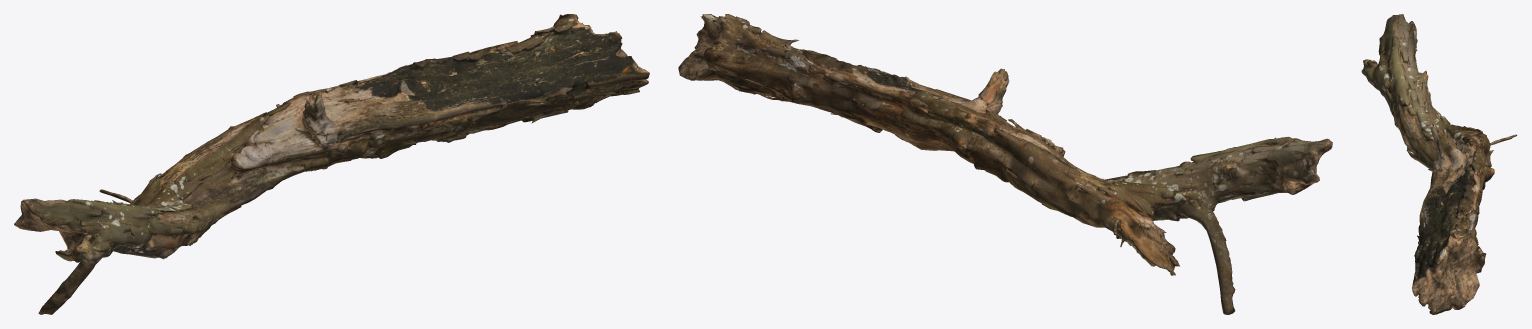
The model's file is log.glb.
3 views of the same model, side by side, from view 1: azimuth 30°, elevation 25°; view 2: azimuth 150°, elevation 25°; view 3: azimuth 270°, elevation 25° (orthographic). The views are drawn at different scales.
Visible parts, largest first — view 1: dead_tree_trunk_02; view 2: dead_tree_trunk_02; view 3: dead_tree_trunk_02.
Part boxes in pixels (x1,y1,x2,y2): dead_tree_trunk_02: (14, 14, 649, 314); dead_tree_trunk_02: (678, 14, 1332, 314); dead_tree_trunk_02: (1361, 14, 1517, 314).
Size of the model in its own units: 4.05 by 1.05 by 1.05.
1 material, 1 textured.
